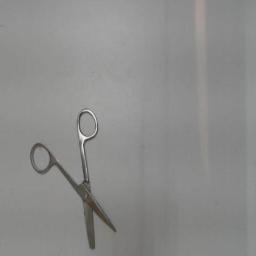Dressing Scissors: (26, 104, 120, 252)
